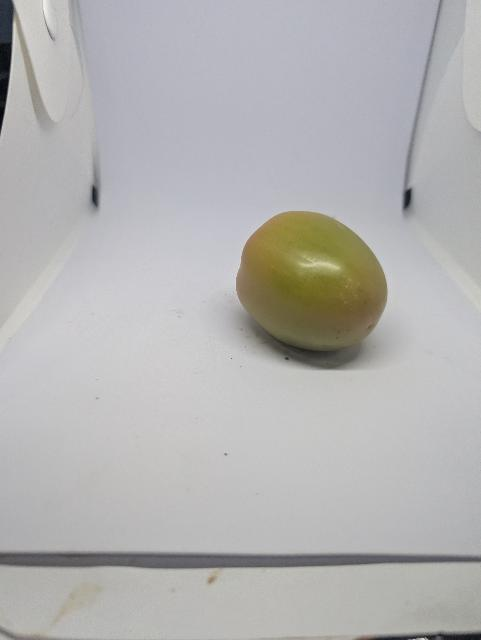breaker: (233, 193, 393, 367)
